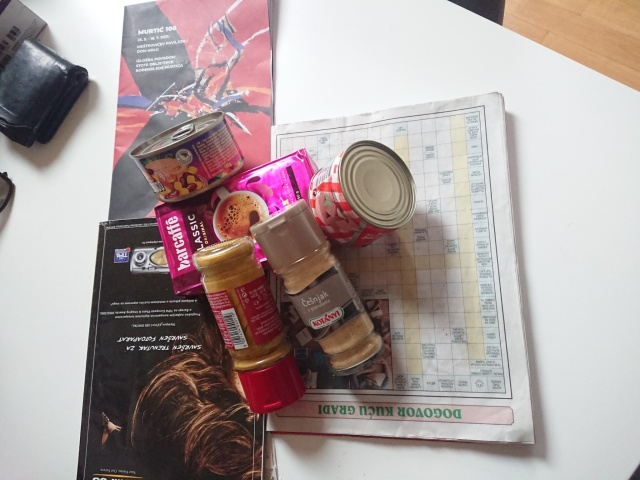Barcaffe Classic Original 225g: (152, 146, 343, 298)
Giana Tuna Salad Mexico 185g: (126, 108, 248, 205)
Kotanyi Curry Spices Mix 70g: (189, 233, 309, 416)
Kotanyi Garlic Granules 70g: (247, 197, 388, 379)
Podravka Luncheon Meat 150g: (304, 137, 420, 250)
